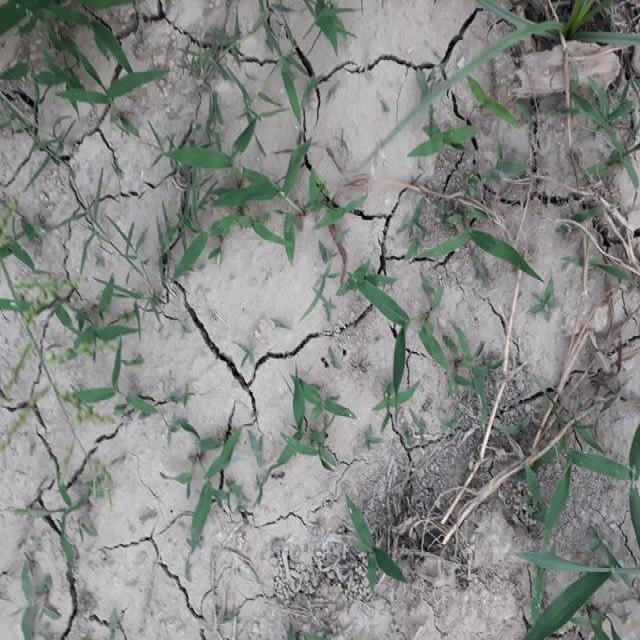weed: (2, 0, 160, 120), (172, 124, 300, 263), (532, 538, 617, 640), (359, 280, 416, 392), (286, 387, 355, 468), (583, 431, 640, 510), (199, 440, 247, 531), (65, 294, 138, 350)
